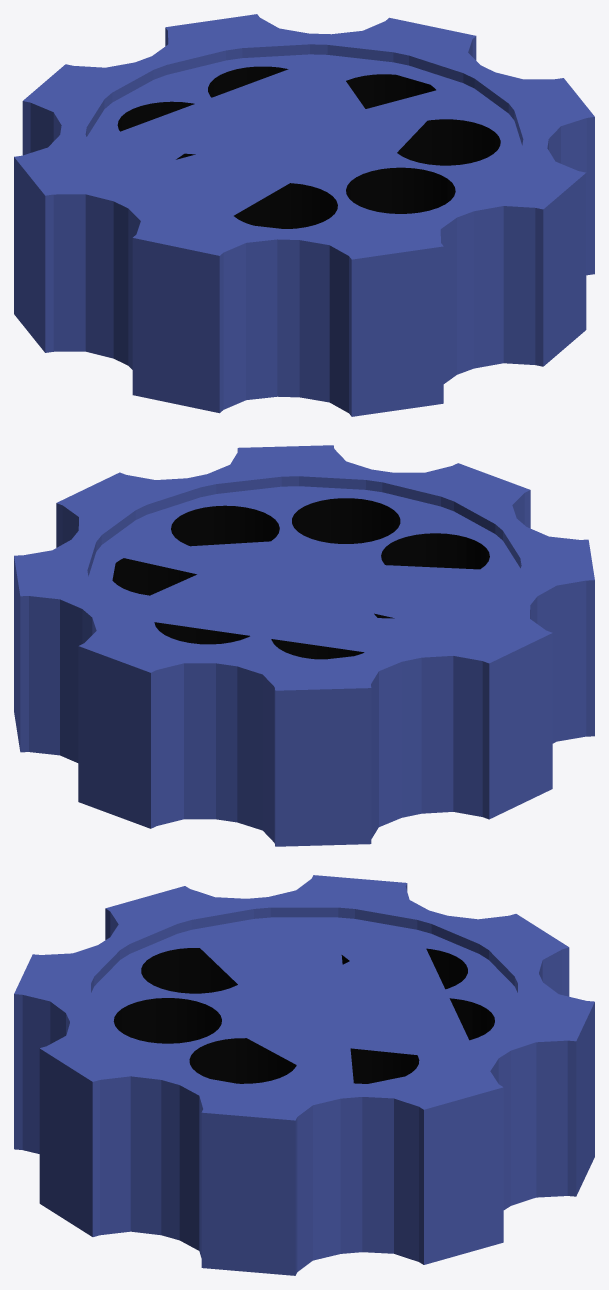
The model's file is bullet_gathered (1).fbx.
3 views of the same model, one above another, from view 1: azimuth 30°, elevation 25°; view 2: azimuth 150°, elevation 25°; view 3: azimuth 270°, elevation 25° (orthographic).
Visible parts, largest first — view 1: charger; view 2: charger; view 3: charger.
Part boxes in pixels (<box>): charger: <box>14,14,594,416</box>; charger: <box>14,445,594,846</box>; charger: <box>14,875,594,1275</box>.
Bounding box in the file's own units: 236 × 69.74 × 236.
